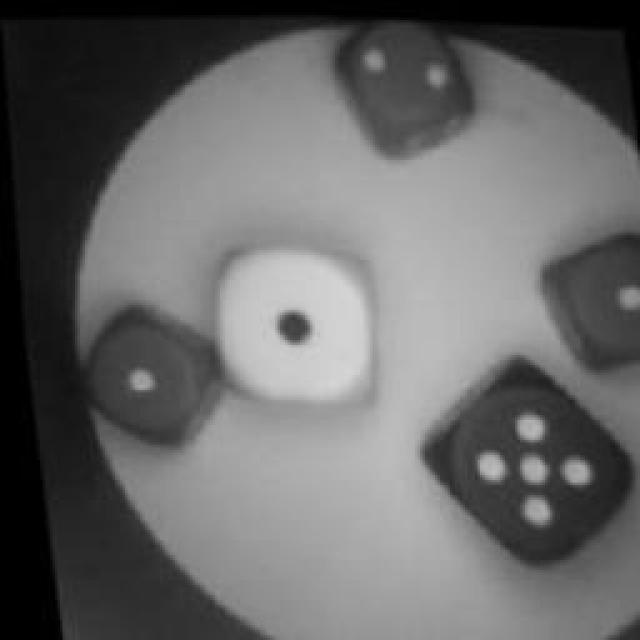dice_1: (198, 231, 382, 411), (66, 302, 216, 448), (537, 220, 640, 355)
dice_2: (326, 11, 476, 144)
dice_5: (404, 348, 628, 554)
